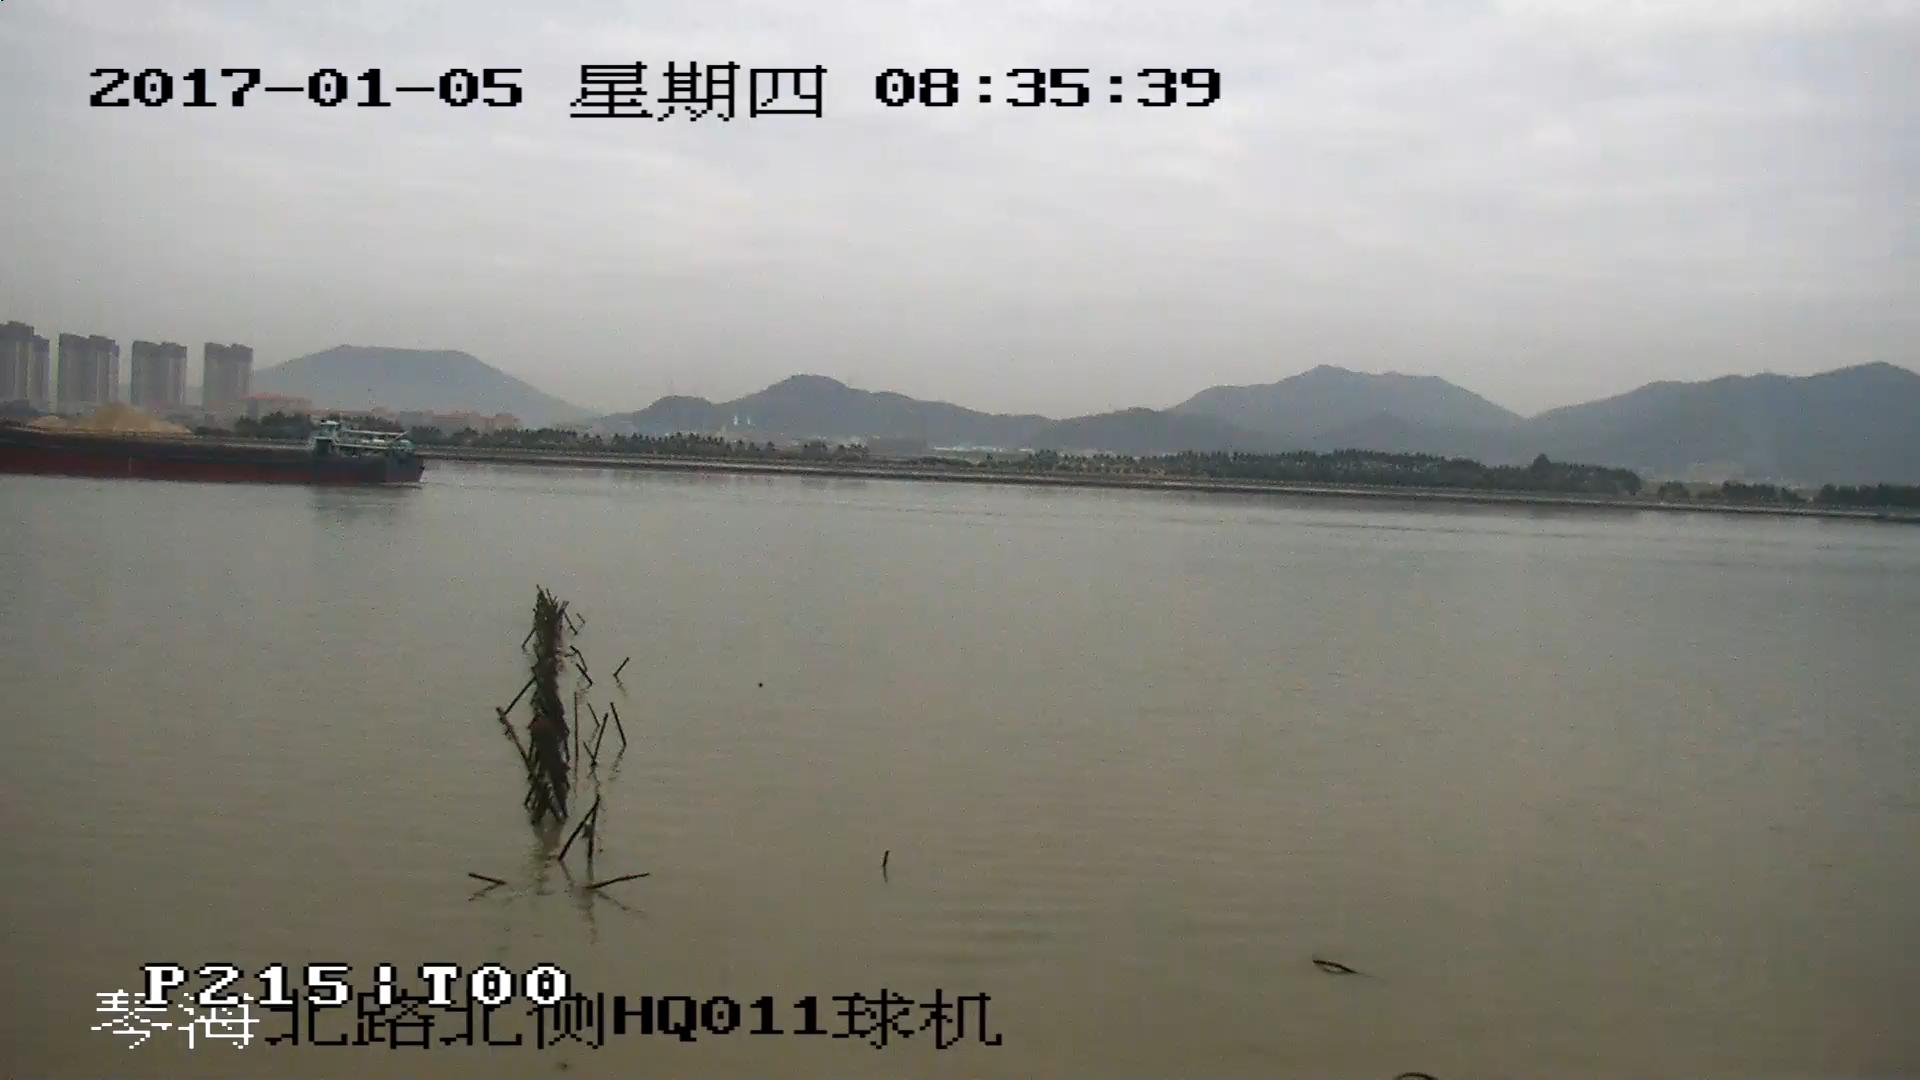bulk cargo carrier: (1, 420, 425, 489)
